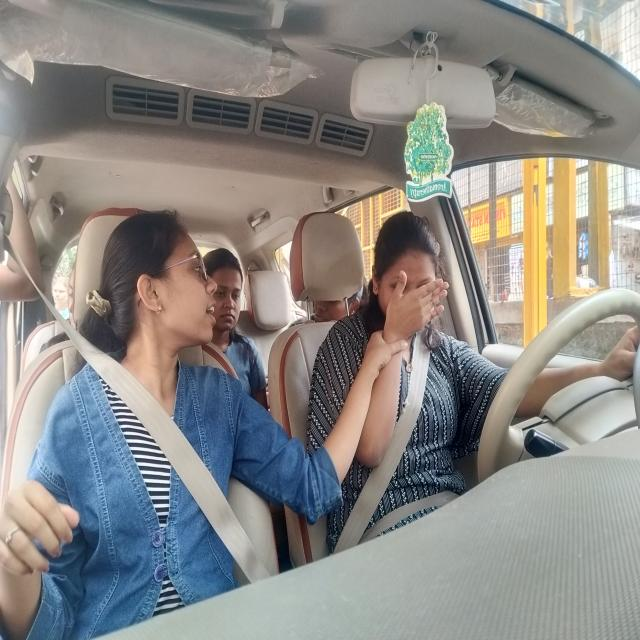LeftRight: (373, 208, 446, 350)
person: (105, 205, 223, 378), (208, 241, 253, 340)
talking: (200, 299, 218, 326)
